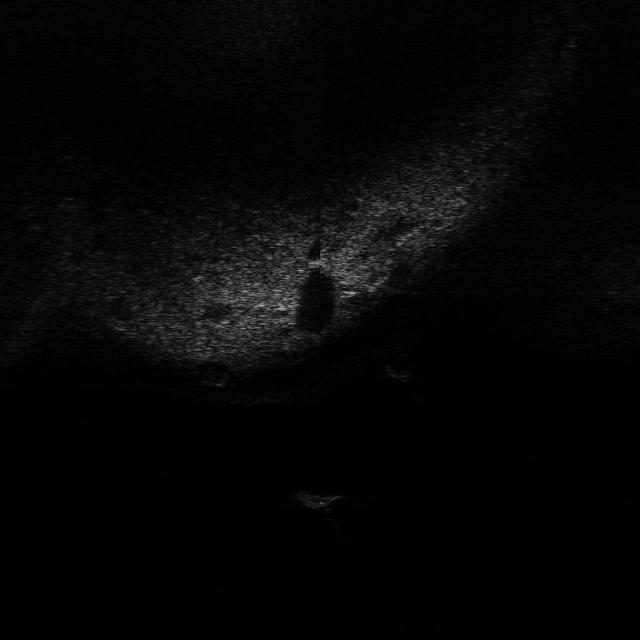ball: (380, 352, 416, 382)
cube: (286, 488, 346, 513)
